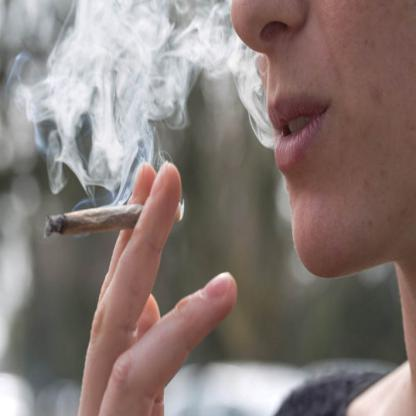cigarette: (43, 201, 147, 241)
smoke: (24, 0, 194, 190), (190, 0, 234, 88), (234, 55, 271, 143)
